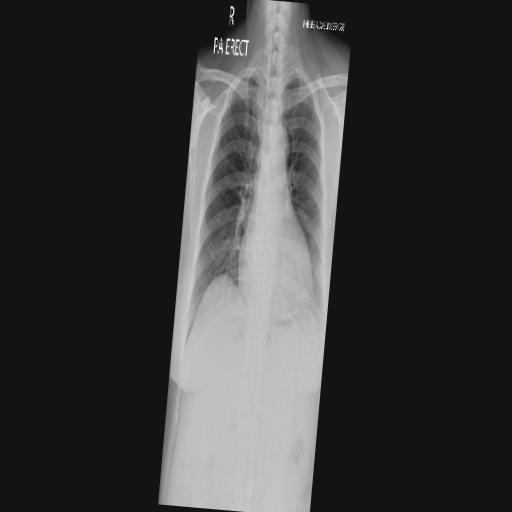kardiomegali: (230, 176, 324, 334)
